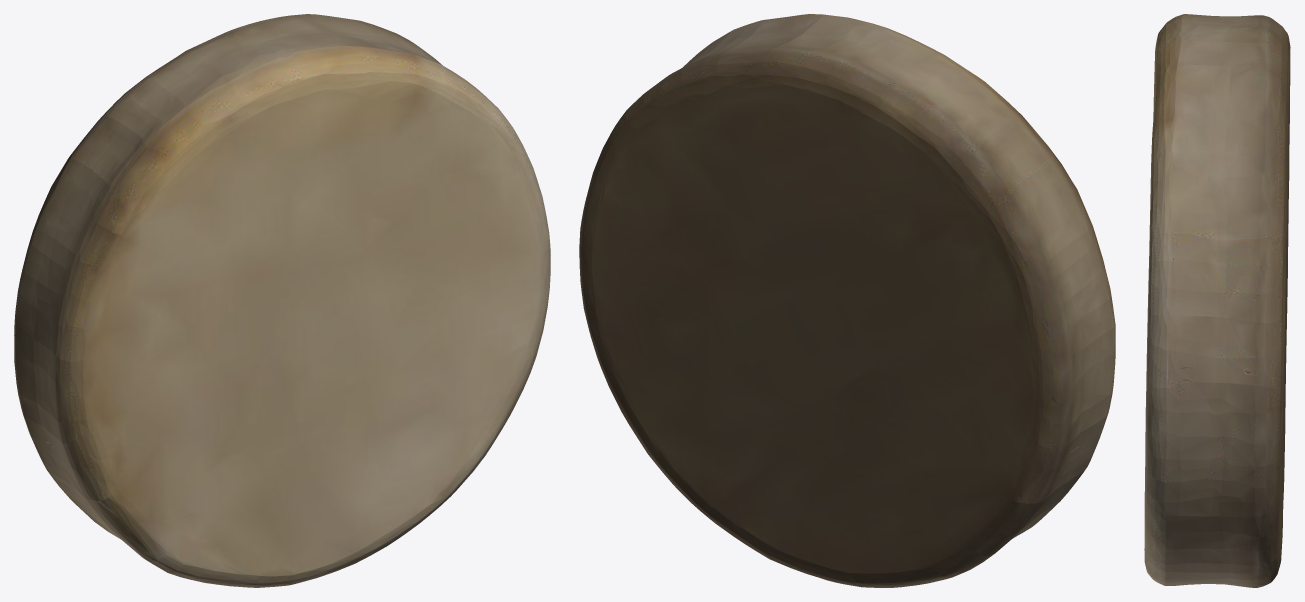
The model's file is round_woven_basket_hanging_from_ceiling_000.glb.
3 views of the same model, side by side, from view 1: azimuth 30°, elevation 25°; view 2: azimuth 150°, elevation 25°; view 3: azimuth 270°, elevation 25° (orthographic).
Visible parts, largest first — view 1: round_woven_basket_hanging_from_ceiling_000.obj; view 2: round_woven_basket_hanging_from_ceiling_000.obj; view 3: round_woven_basket_hanging_from_ceiling_000.obj.
Boxes of the visible parts, x1,y1,x2,y2 form: round_woven_basket_hanging_from_ceiling_000.obj: (14, 14, 550, 587); round_woven_basket_hanging_from_ceiling_000.obj: (579, 14, 1115, 587); round_woven_basket_hanging_from_ceiling_000.obj: (1144, 14, 1290, 587).
Bounding box in the file's own units: 0.2725 × 0.28 × 0.0705.
Materials: 1 (1 with a texture image).
